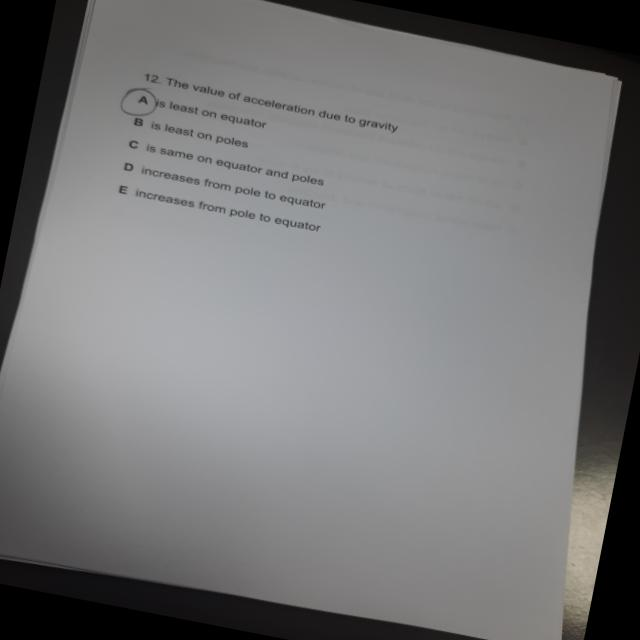A: (114, 84, 166, 125)
